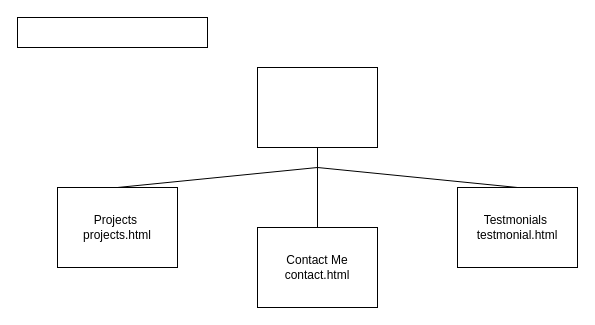
The diagram is 595 pixels wide and 325 high, and some of its shapes have lost their labels. Here are the shapes that lost their labels. From the top down, the box of each, then its label:
(16, 16, 208, 48): Sitemap for Portfolio
(256, 66, 378, 148): Home Index.html
